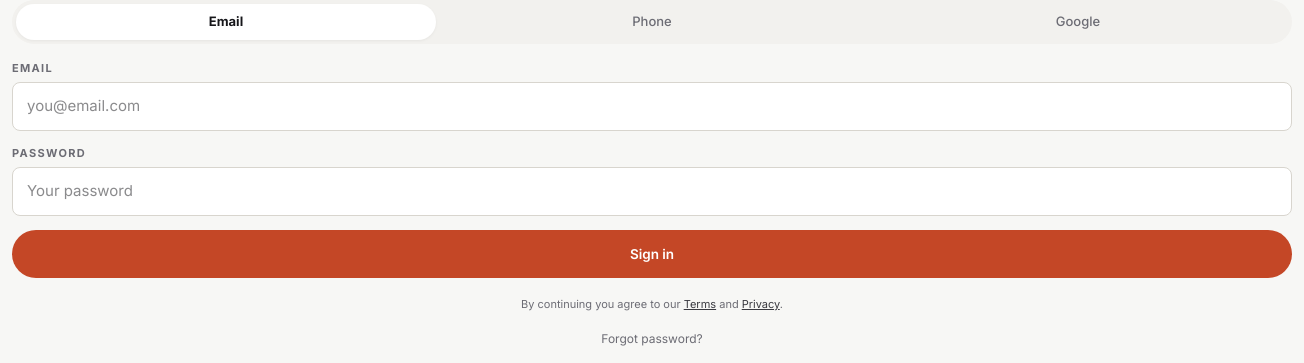
SignInForm › rejects an obviously bad phone number before talking to Firebase
The width and height of the screenshot is (1304, 363).
Step 1. Click the tab "Phone" → (652, 22), box [442,4,862,40]
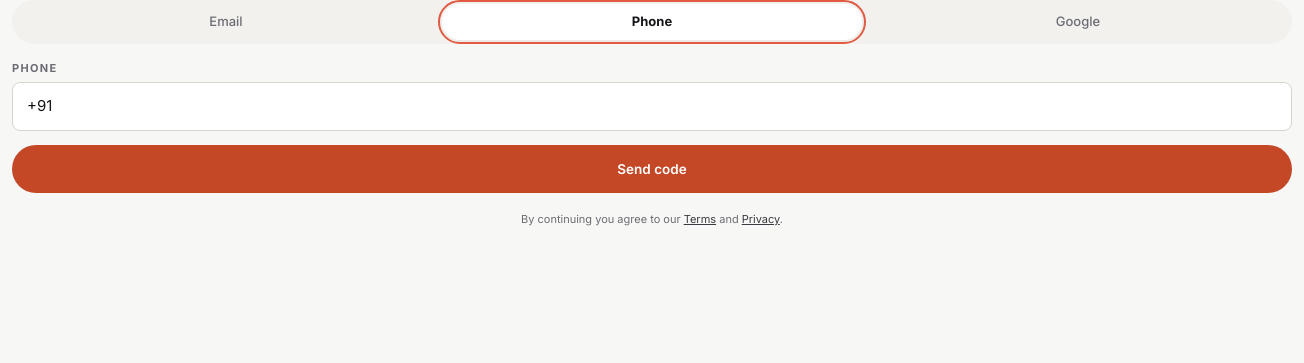
Step 2. Replace the text in the field labelled "Phone" with "12345" → (652, 106), box [12,82,1292,130]
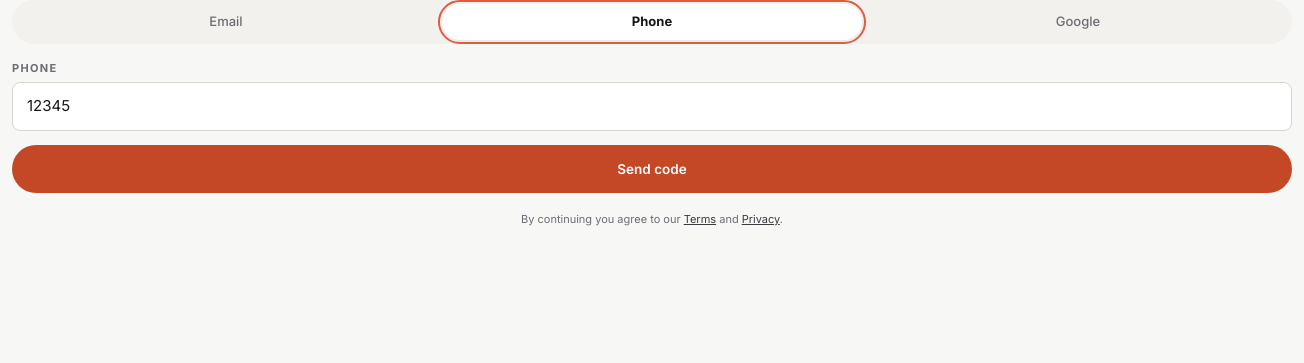
Step 3. Click the button "Send code" → (652, 169), box [12,144,1292,193]
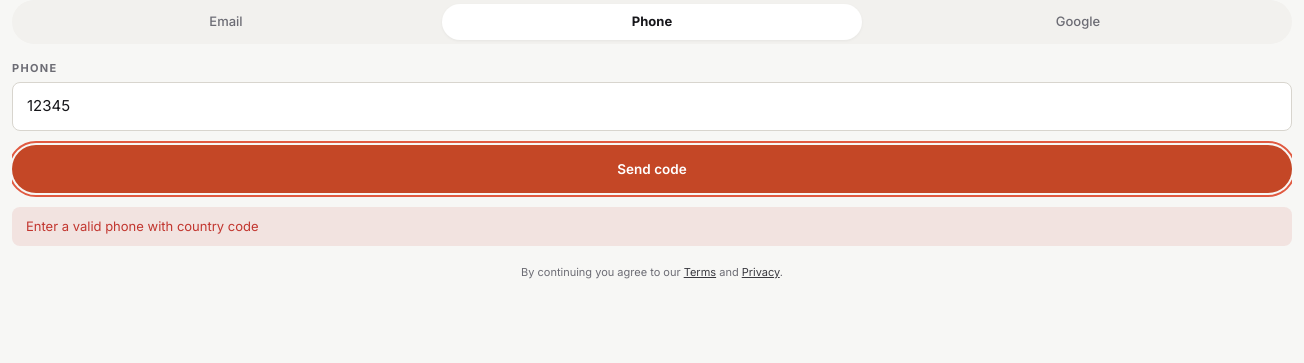
Expected: the text "Enter a valid phone with country code" is shown, [12,207,1292,246]
